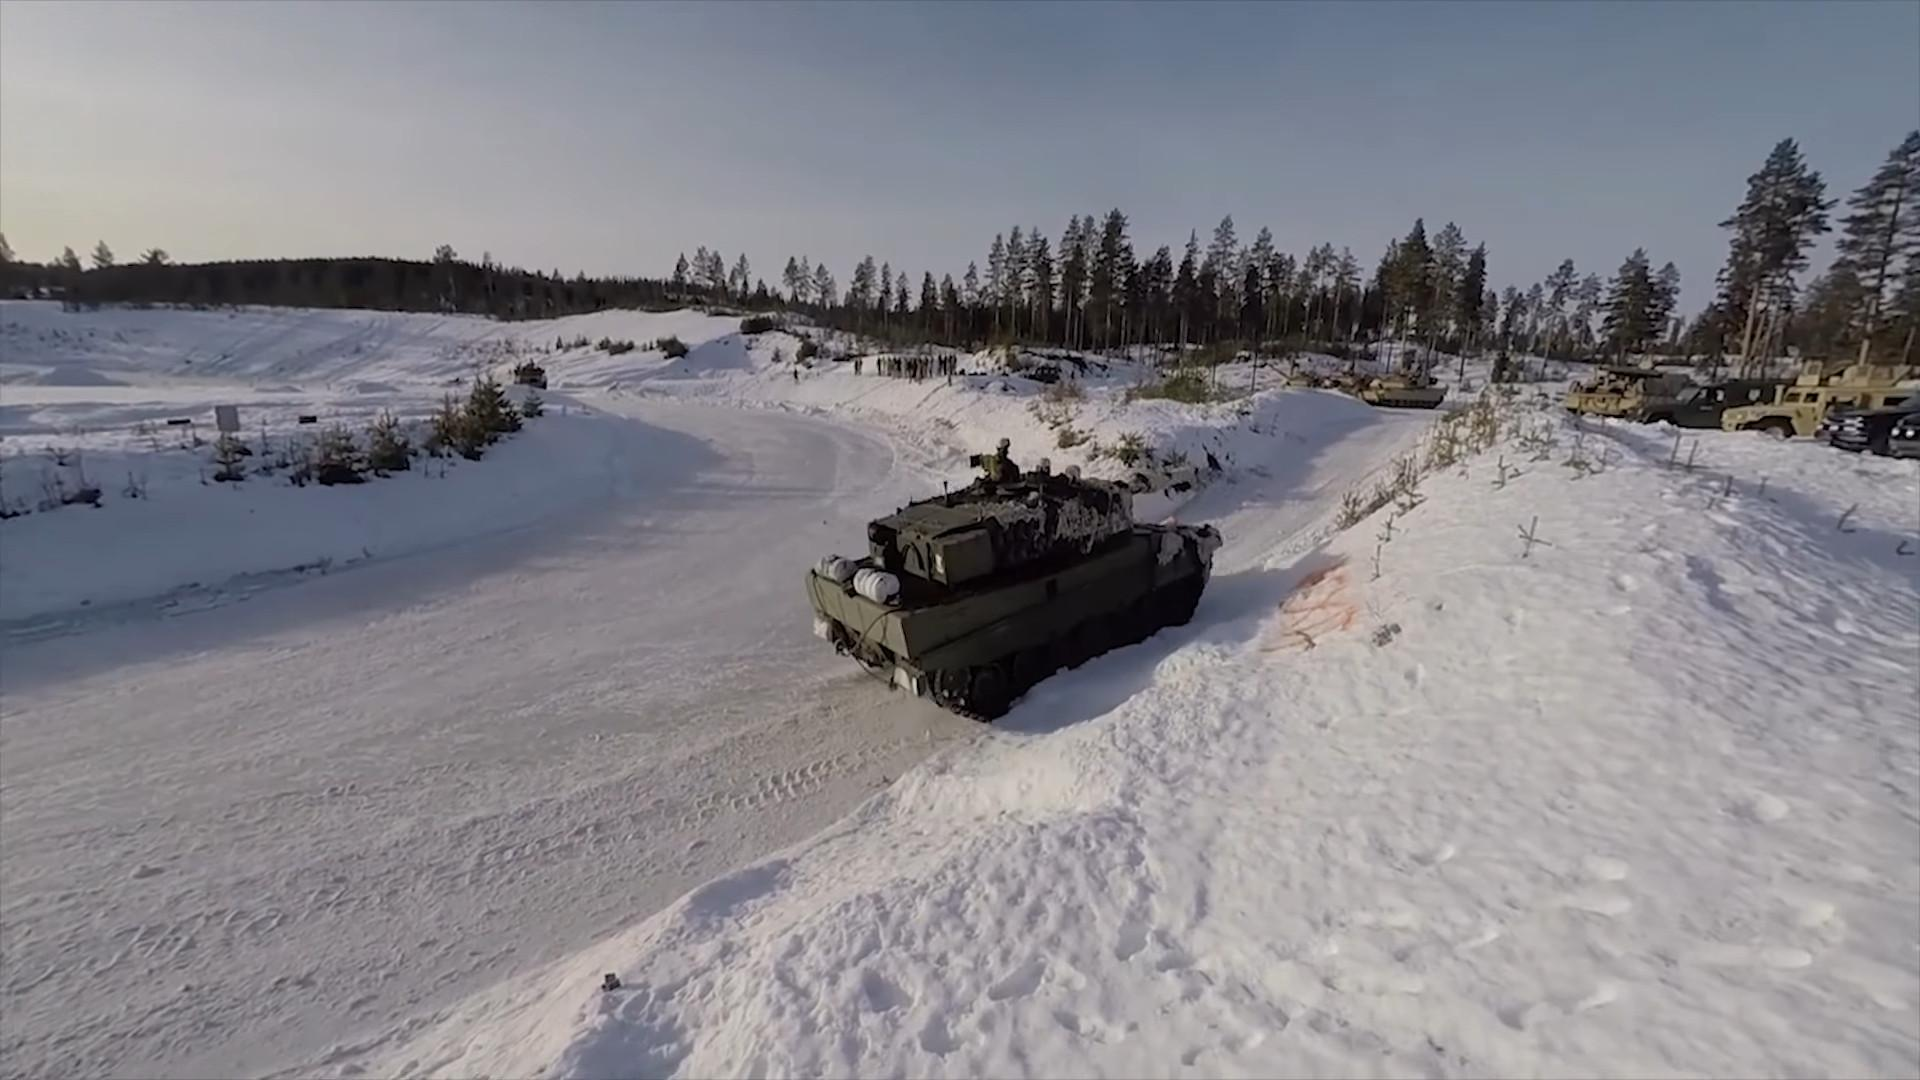tank: (804, 455, 1224, 726)
